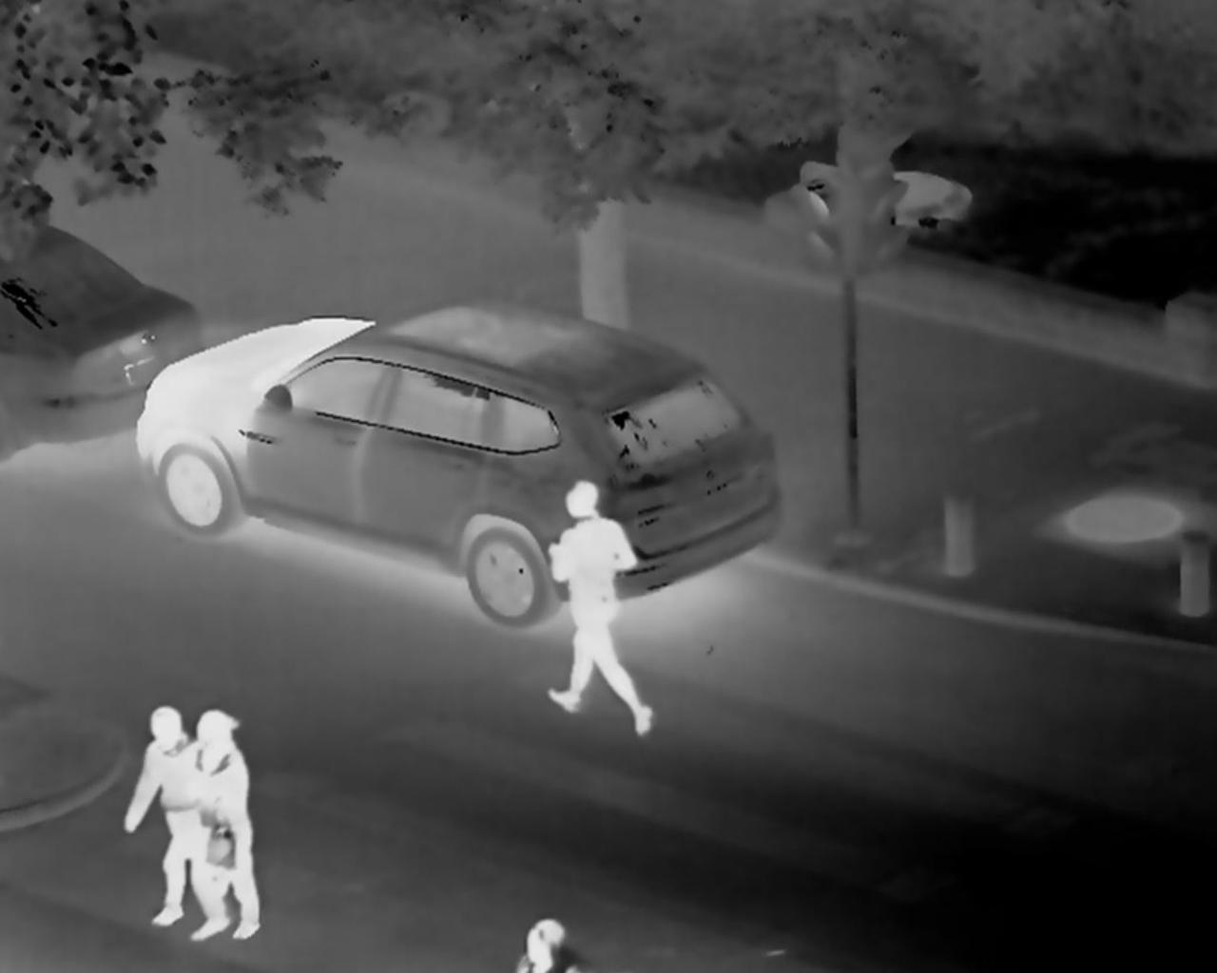person: (550, 503, 660, 742), (107, 704, 196, 947), (200, 711, 268, 912), (531, 908, 573, 973)
